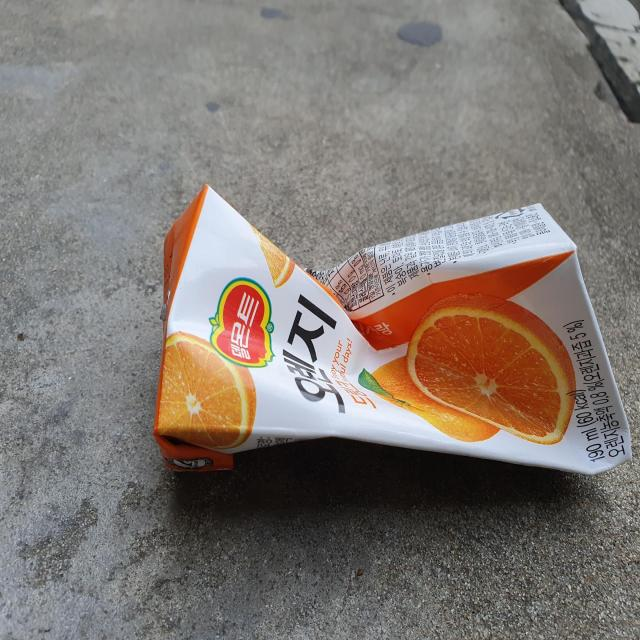paperpack: (153, 185, 633, 474)
